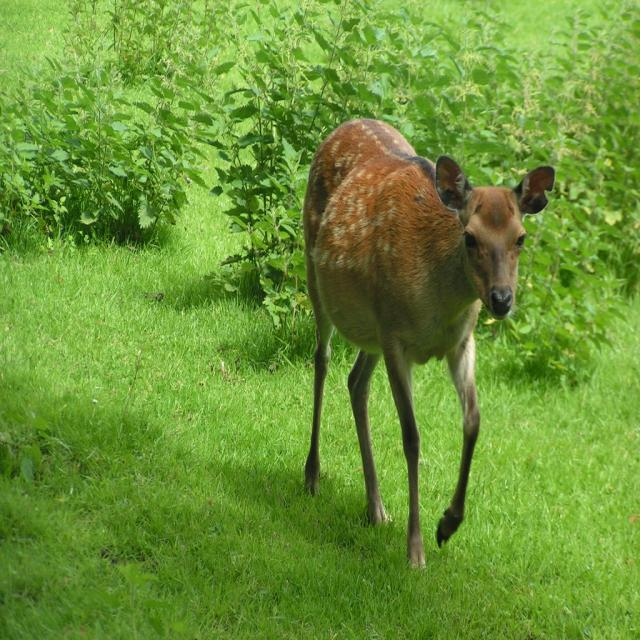Deer: (301, 117, 558, 571)
